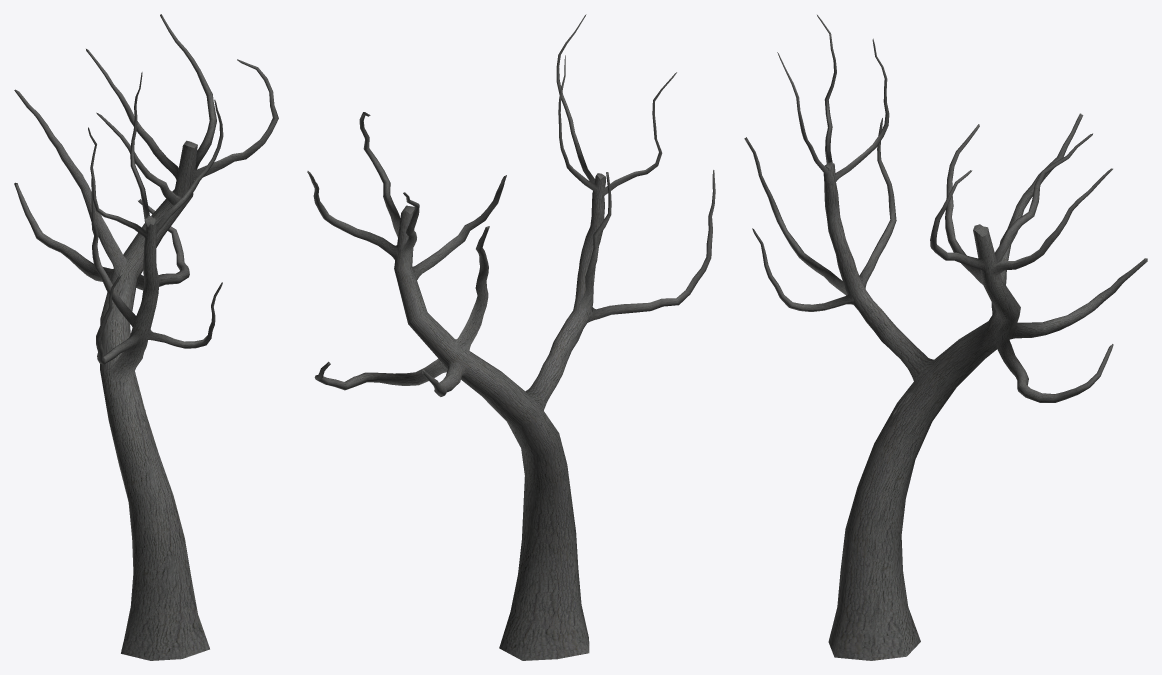
The model's file is Tree3_dead.FBX.
The picture shows the model from 3 angles, left to right: view 1: azimuth 30°, elevation 25°; view 2: azimuth 150°, elevation 25°; view 3: azimuth 270°, elevation 25°; orthographic projection. The views are drawn at different scales.
Visible parts, largest first — view 1: Tree3_dead_LOD0; view 2: Tree3_dead_LOD0; view 3: Tree3_dead_LOD0.
Boxes of the visible parts, <box> form: Tree3_dead_LOD0: <box>14,14,278,660</box>; Tree3_dead_LOD0: <box>307,14,715,660</box>; Tree3_dead_LOD0: <box>744,15,1147,660</box>.
Bounding box in the file's own units: 187 × 243 × 396.
